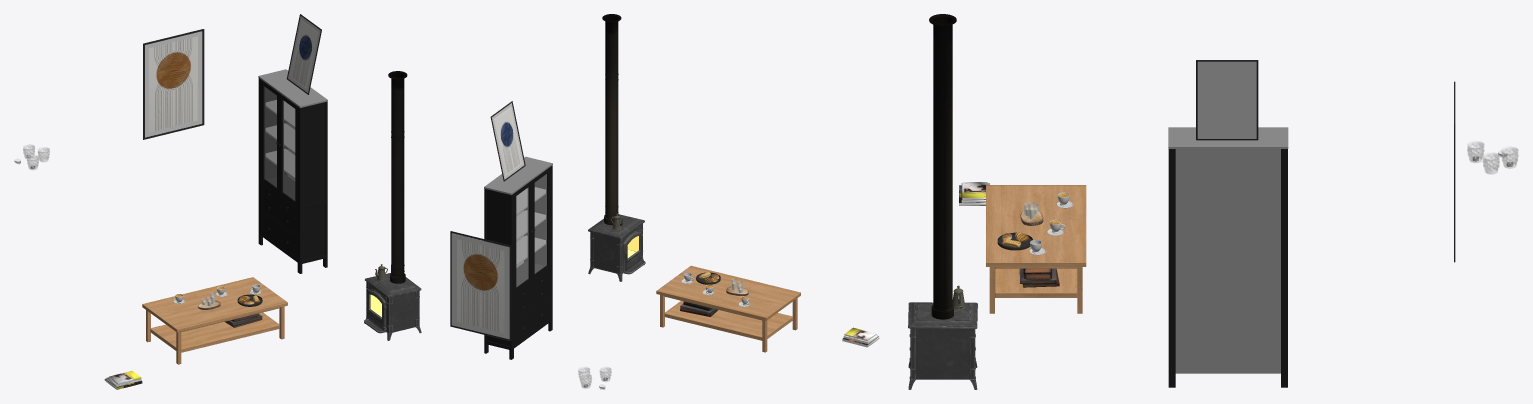
The model's file is last_furniture.glb.
The picture shows the model from 3 angles, left to right: view 1: azimuth 30°, elevation 25°; view 2: azimuth 150°, elevation 25°; view 3: azimuth 270°, elevation 25°; orthographic projection. The views are drawn at different scales.
Parts seen in each view (by area): view 1: Hemnes.Cabinet, Chocofur_Wood_13, picture.001, Cube.2678, g Mapponata01, picture.002, frame.002, frame.001; view 2: Hemnes.Cabinet, Chocofur_Wood_13, picture.001, Cube.2678, g Mapponata01, picture.002, frame.002, frame.001; view 3: Hemnes.Cabinet, Chocofur_Wood_13, Cube.2678, picture.002, g Mapponata01.
Boxes of the visible parts, <box> form: Hemnes.Cabinet: <box>258,69,327,273</box>; Chocofur_Wood_13: <box>142,277,287,364</box>; picture.001: <box>149,36,197,132</box>; Cube.2678: <box>388,71,407,283</box>; g Mapponata01: <box>364,273,421,340</box>; picture.002: <box>287,14,321,94</box>; frame.002: <box>145,31,202,137</box>; frame.001: <box>143,29,204,139</box>; Hemnes.Cabinet: <box>484,156,552,359</box>; Chocofur_Wood_13: <box>656,265,800,352</box>; picture.001: <box>457,239,504,332</box>; Cube.2678: <box>602,14,621,225</box>; g Mapponata01: <box>588,214,645,281</box>; picture.002: <box>490,101,525,181</box>; frame.002: <box>451,233,509,339</box>; frame.001: <box>450,231,511,341</box>; Hemnes.Cabinet: <box>1168,127,1288,387</box>; Chocofur_Wood_13: <box>986,185,1086,313</box>; Cube.2678: <box>929,14,956,319</box>; picture.002: <box>1196,60,1258,140</box>; g Mapponata01: <box>908,302,977,389</box>.
Bounding box in the file's own units: 3.48 × 2.91 × 4.45.
Materials: 31 (18 with a texture image).
